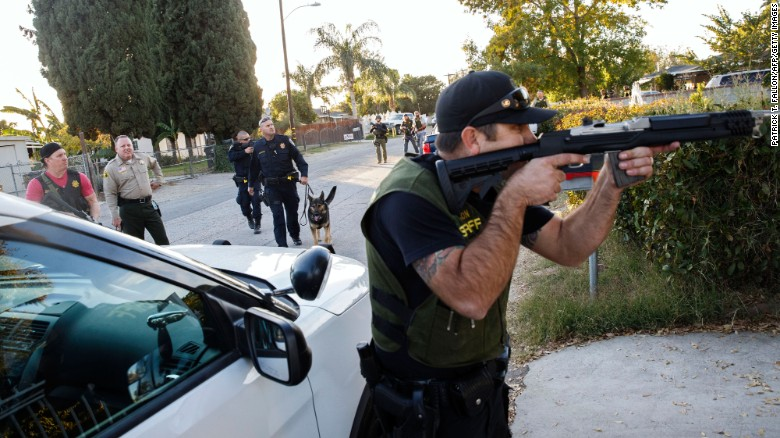Gun: (539, 109, 746, 183)
